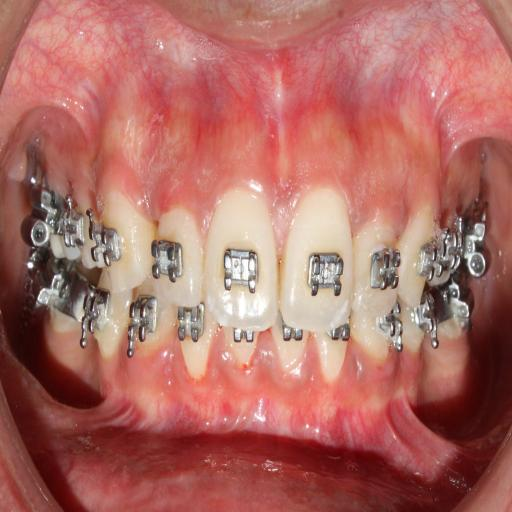correct_brace: (304, 241, 348, 301), (216, 247, 260, 303), (88, 218, 126, 278), (149, 230, 186, 285), (414, 231, 448, 286), (366, 244, 401, 294)
incorrect_brace: (154, 196, 205, 320), (349, 210, 404, 316)
